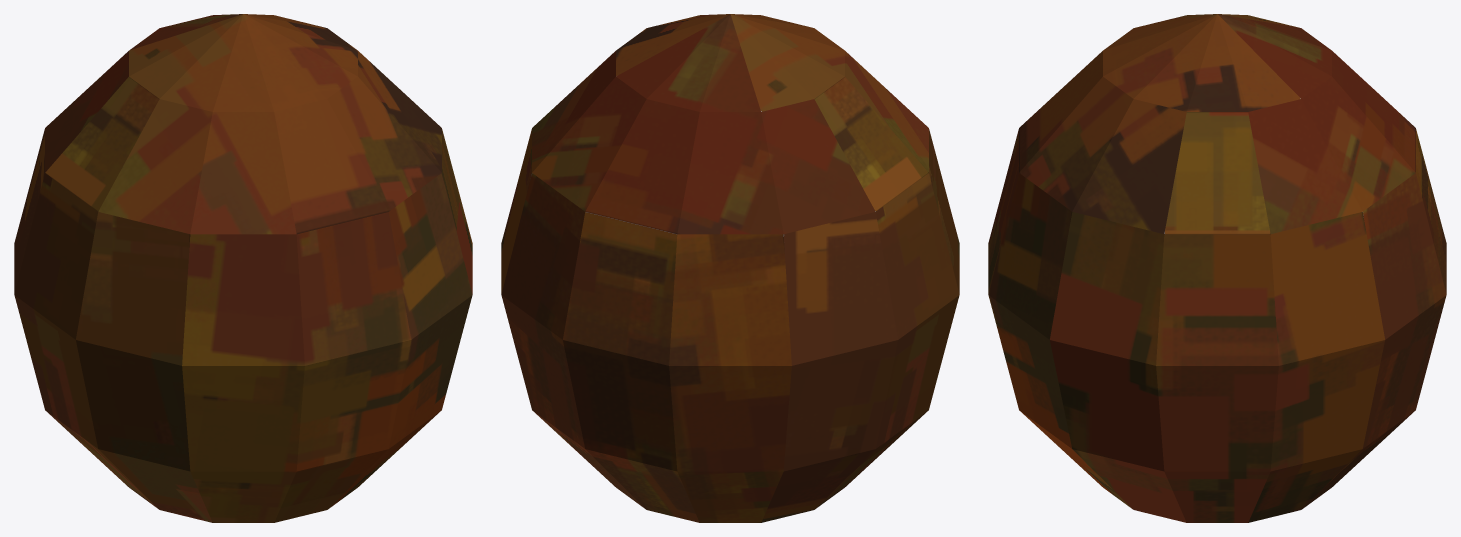
File: NoixDeCoco.fbx
3 renders of one model, left to right at view 1: azimuth 30°, elevation 25°; view 2: azimuth 150°, elevation 25°; view 3: azimuth 270°, elevation 25°, orthographic.
Visible parts, largest first — view 1: sphere; view 2: sphere; view 3: sphere.
Part boxes in pixels (box(x1,y1,x2,y2)): sphere: box(14, 14, 472, 522); sphere: box(501, 14, 959, 522); sphere: box(988, 14, 1446, 522).
Bounding box in the file's own units: 87.5 × 105 × 87.5.
1 material, 1 textured.
